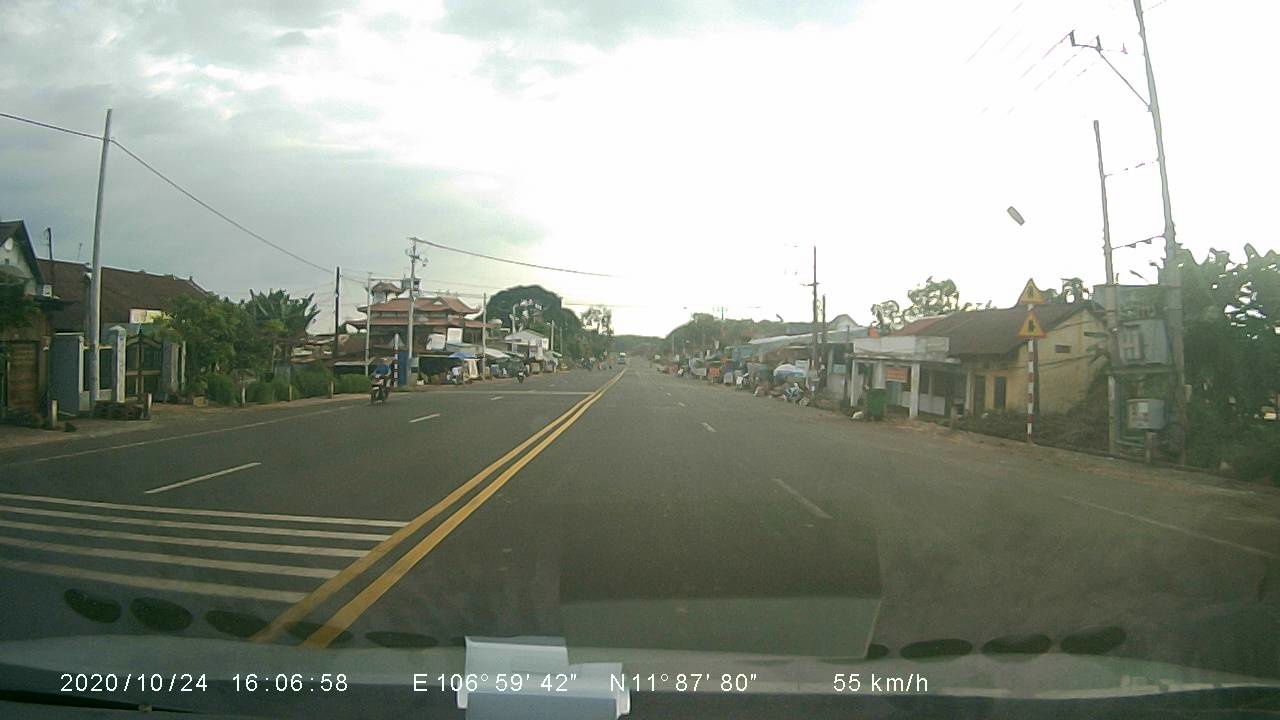Giao nhau voi duong khong uu tien: (1016, 274, 1046, 303), (1017, 309, 1045, 338)
